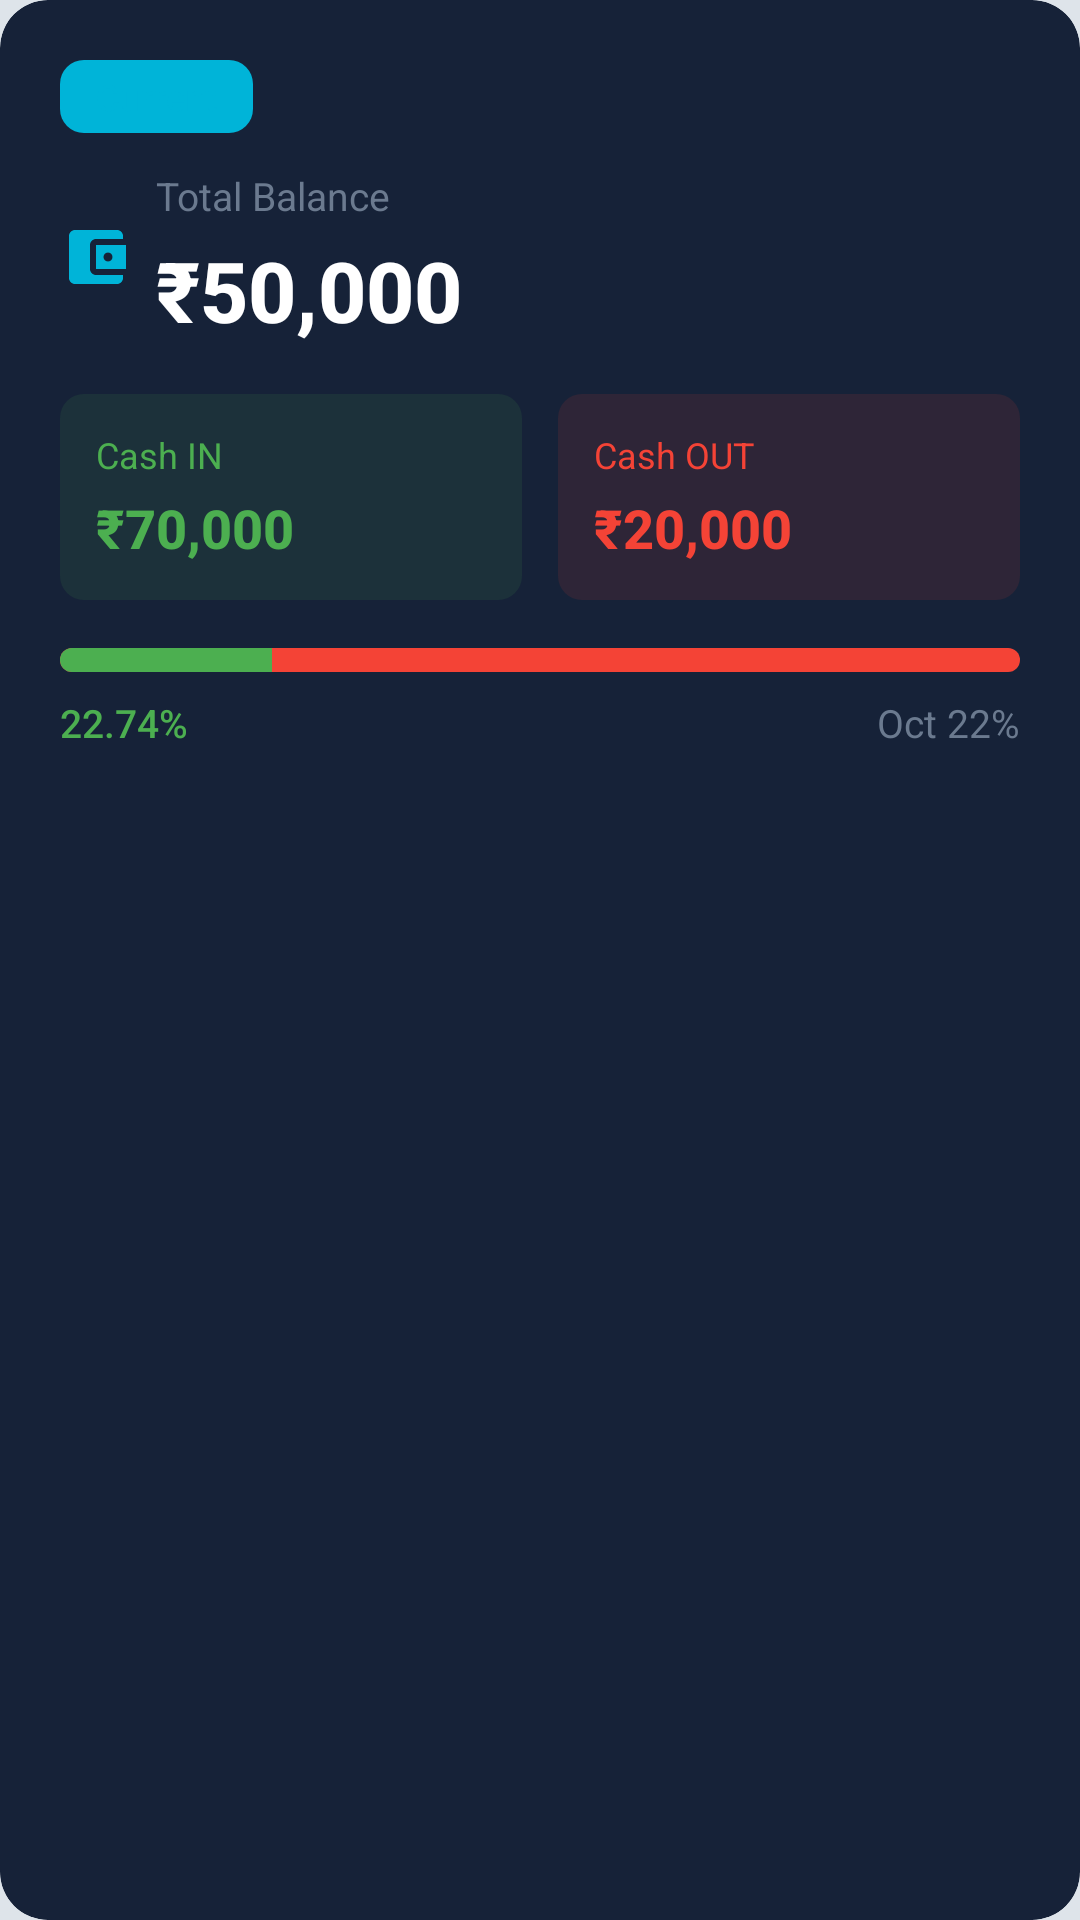

Named icons in this screenshot (1080w x 1920h) and their centers, (x,y):
wallet: (97,257)
